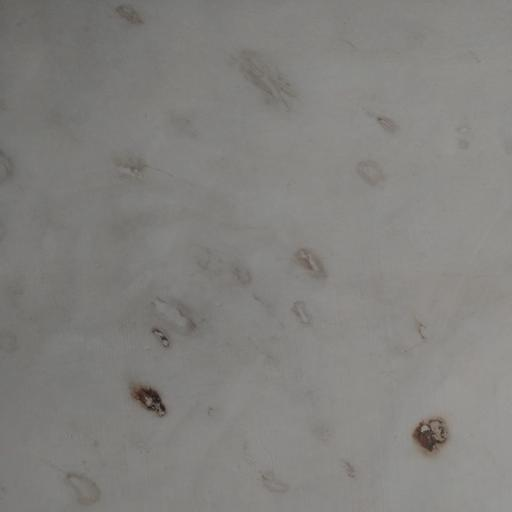stain: (121, 12, 512, 482), (0, 81, 89, 378), (43, 453, 130, 512)
